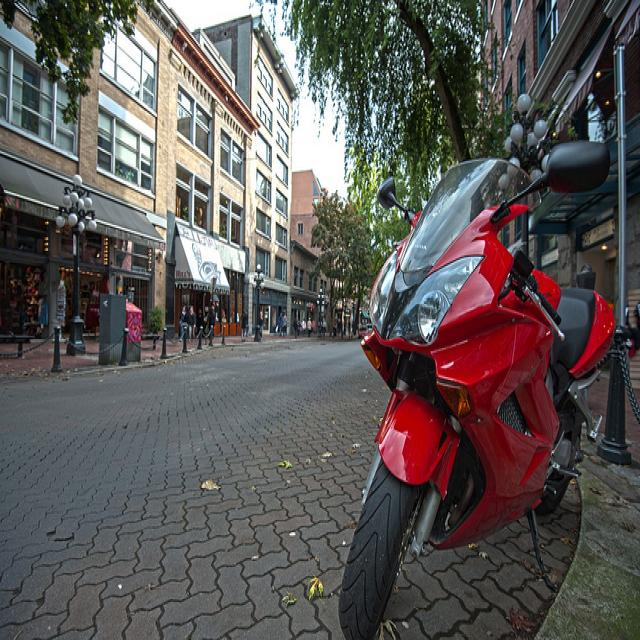motor: (337, 142, 615, 640)
